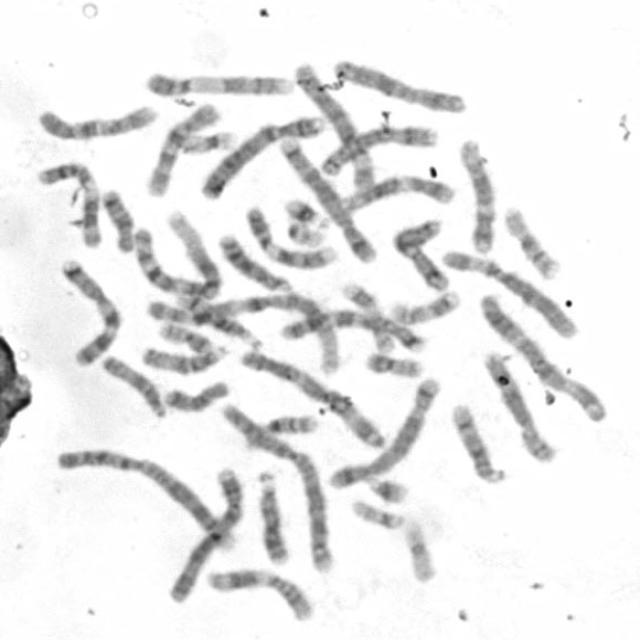A1: (141, 293, 343, 378), (128, 209, 225, 301)
A2: (49, 442, 242, 552), (218, 398, 336, 576)
A3: (476, 288, 608, 424), (236, 345, 389, 450)
B4: (194, 110, 329, 202), (163, 463, 246, 604)
B5: (324, 373, 442, 492), (276, 133, 378, 265)
C10: (141, 99, 222, 198), (32, 100, 160, 142)
C11: (202, 567, 317, 628), (36, 161, 101, 248)
C12: (335, 170, 456, 213), (454, 134, 496, 255)
C6: (440, 245, 580, 341), (290, 58, 378, 191)
C7: (55, 254, 124, 369), (272, 308, 428, 353)
C8: (478, 347, 558, 465), (319, 124, 440, 178)
C9: (238, 202, 336, 271), (140, 68, 296, 99)
D13: (213, 232, 289, 298), (252, 466, 290, 564)
D14: (168, 291, 267, 353), (446, 399, 506, 485)
D15: (98, 350, 168, 419), (138, 341, 231, 376)
E16: (500, 202, 562, 282), (242, 411, 324, 453)
E17: (338, 278, 396, 356), (385, 287, 461, 326)
E18: (160, 376, 230, 415), (98, 185, 136, 253)
F19: (401, 516, 438, 587), (178, 126, 240, 156)
F20: (155, 319, 214, 355), (361, 348, 424, 379)
G21: (281, 193, 331, 231), (362, 472, 412, 506)
G22: (347, 497, 406, 531), (281, 217, 329, 248)
X: (329, 55, 468, 114), (388, 215, 452, 294)
